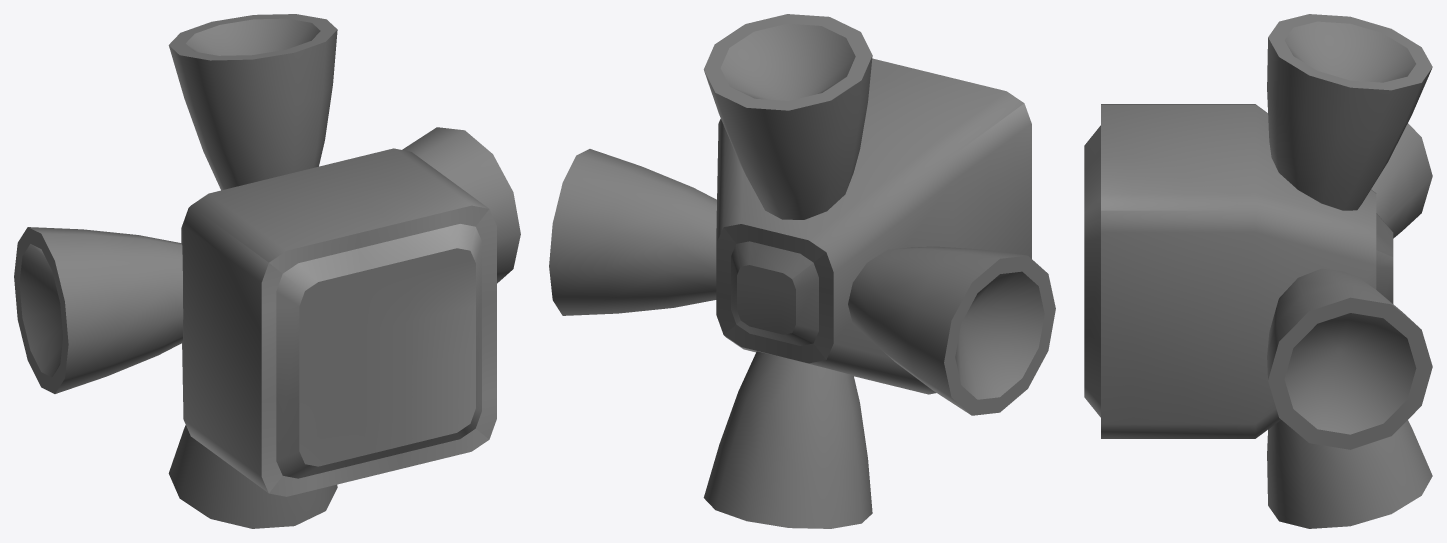
File: Tantares_RCS_1.obj
3 views of the same model, side by side, from view 1: azimuth 30°, elevation 25°; view 2: azimuth 150°, elevation 25°; view 3: azimuth 270°, elevation 25° (orthographic).
Visible parts, largest first — view 1: Tantares_RCS_1; view 2: Tantares_RCS_1; view 3: Tantares_RCS_1.
Boxes of the visible parts, <box> form: Tantares_RCS_1: <box>14,14,520,528</box>; Tantares_RCS_1: <box>549,14,1055,528</box>; Tantares_RCS_1: <box>1084,14,1432,528</box>.
Bounding box in the file's own units: 0.1923 × 0.1923 × 0.1297.
